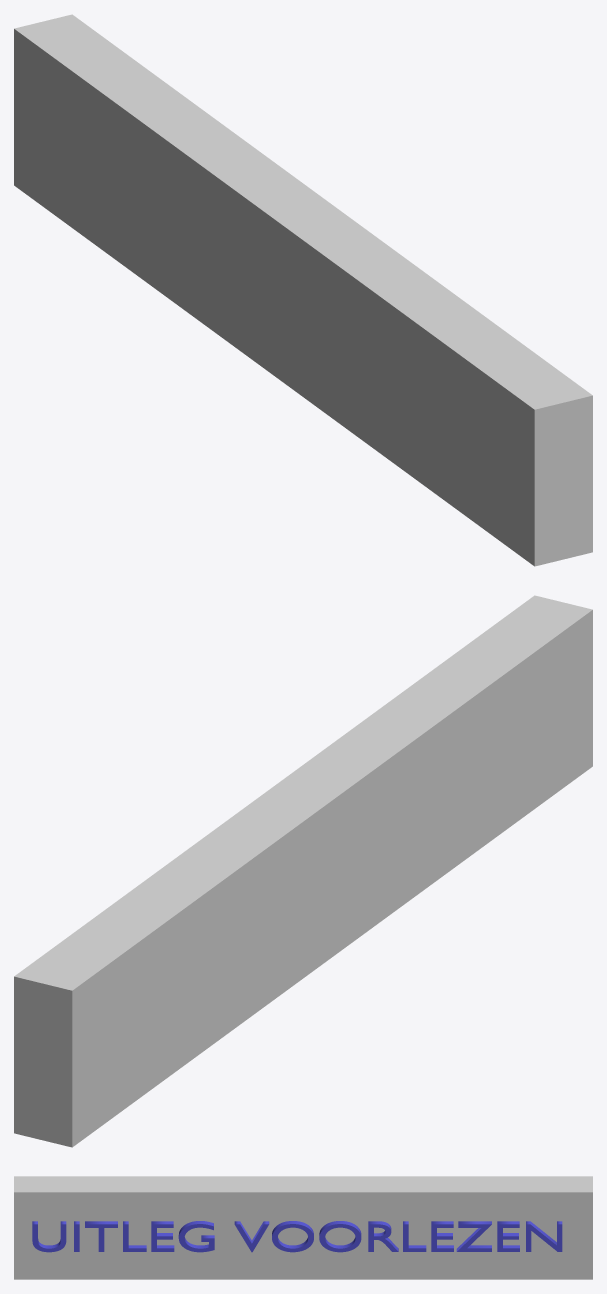
Rendered from UitlegVoorlezen.gltf.
3 renders of one model, top to bottom at view 1: azimuth 30°, elevation 25°; view 2: azimuth 150°, elevation 25°; view 3: azimuth 270°, elevation 25°, orthographic. The views are drawn at different scales.
Parts seen in each view (by area): view 1: Cube.002; view 2: Cube.002; view 3: Cube.002, Text.003.
Part boxes in pixels (left/top/right/bottom): Cube.002: left=14, top=14, right=592, bottom=566; Cube.002: left=14, top=595, right=592, bottom=1147; Cube.002: left=14, top=1176, right=592, bottom=1279; Text.003: left=32, top=1221, right=562, bottom=1252.
Bounding box in the file's own units: 0.7698 × 1.65 × 9.92.
